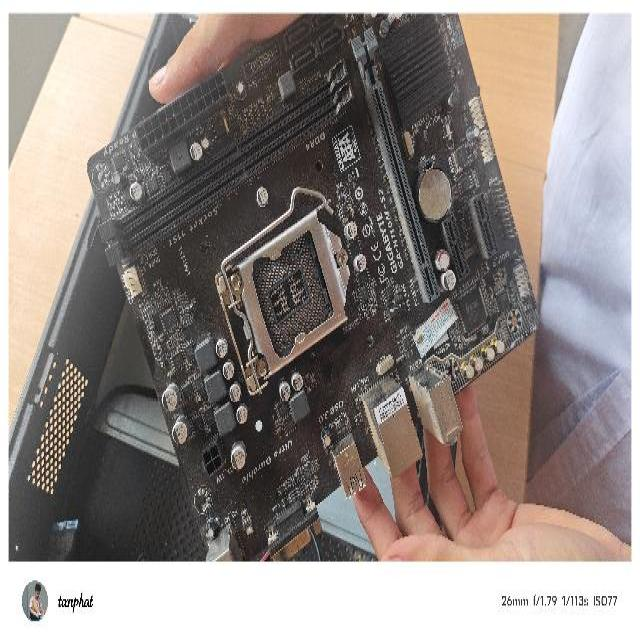Mainboard: (83, 14, 544, 560)
